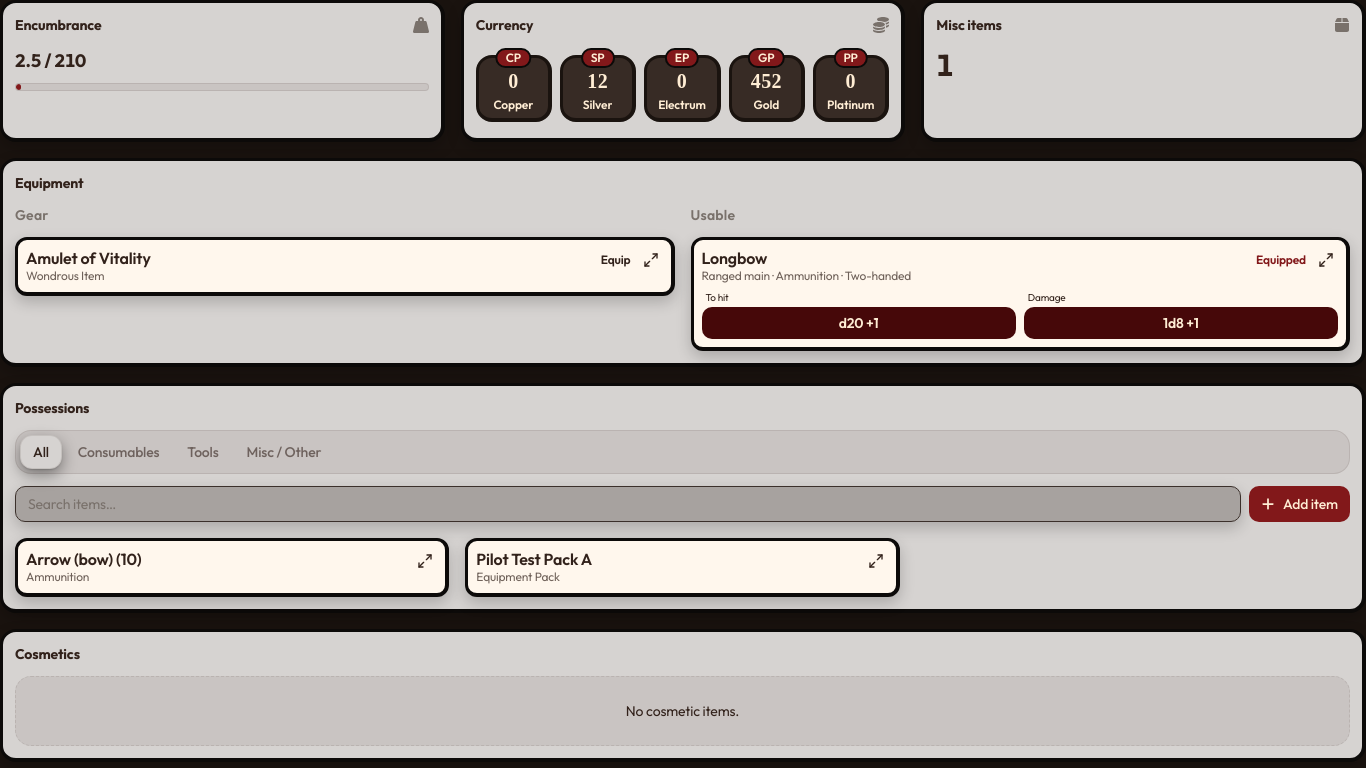
Test: InventoryTab › adjusts a denomination by editing the amount directly
Click the field named "Gold (gp) amount" at (766, 82), box [738,70,795,93]
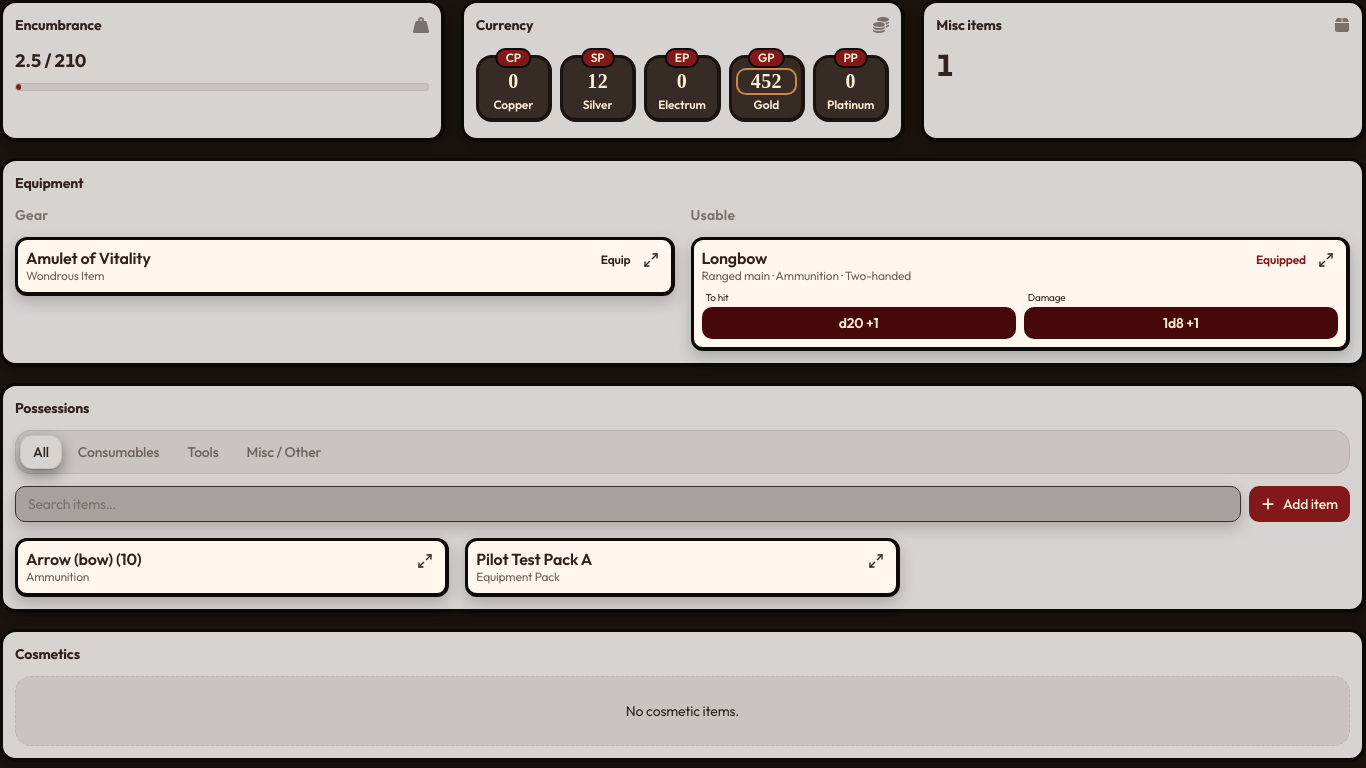
Type keys "{Control>}a{/Control}460"
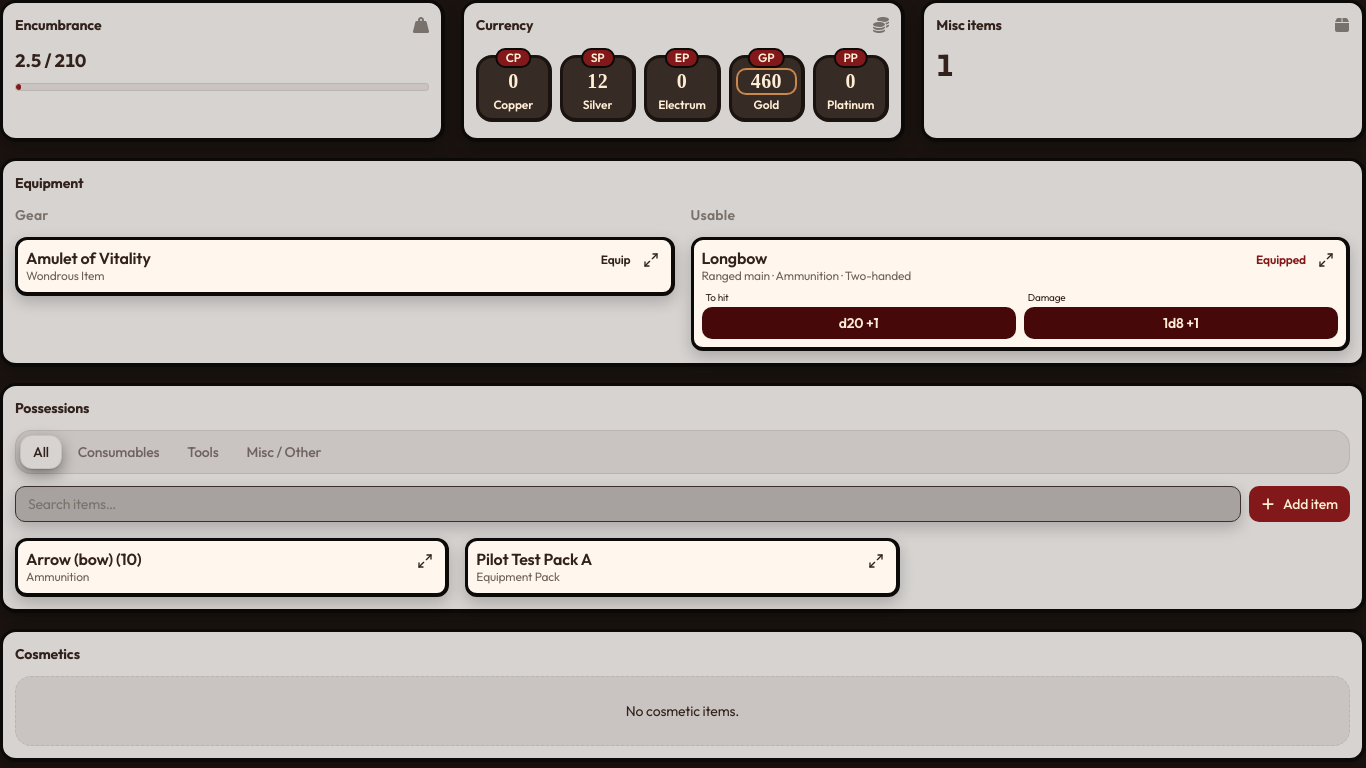
Now the field named "Gold (gp) amount" holds "460", box [738,70,795,93]
